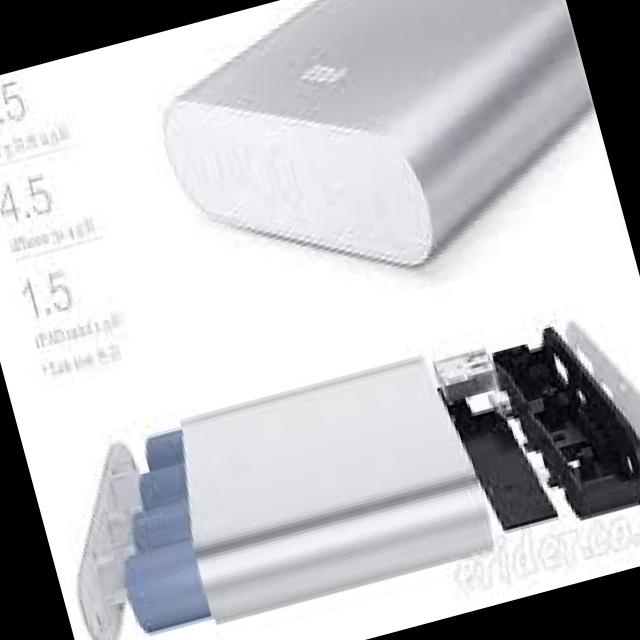power_bank: (131, 0, 625, 334)
